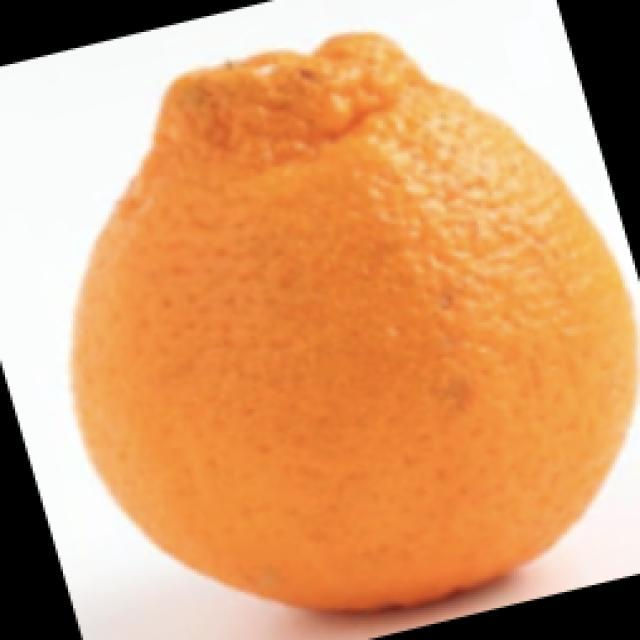matang: (73, 33, 635, 607)
